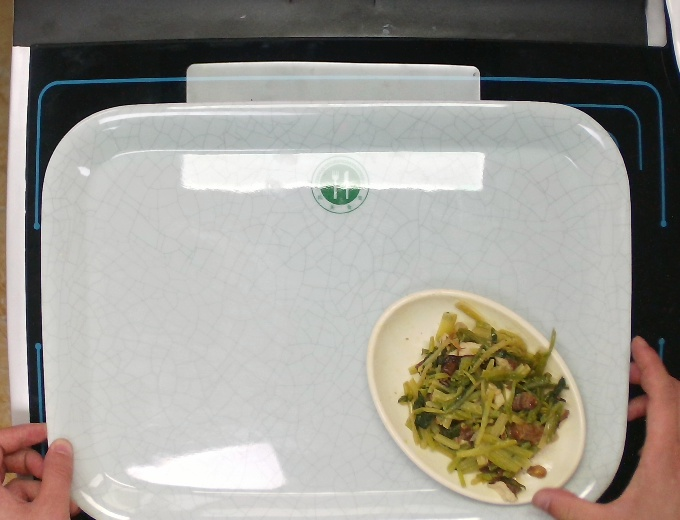JYsf-Tuo_Yuan_Wan: (363, 286, 588, 507)
